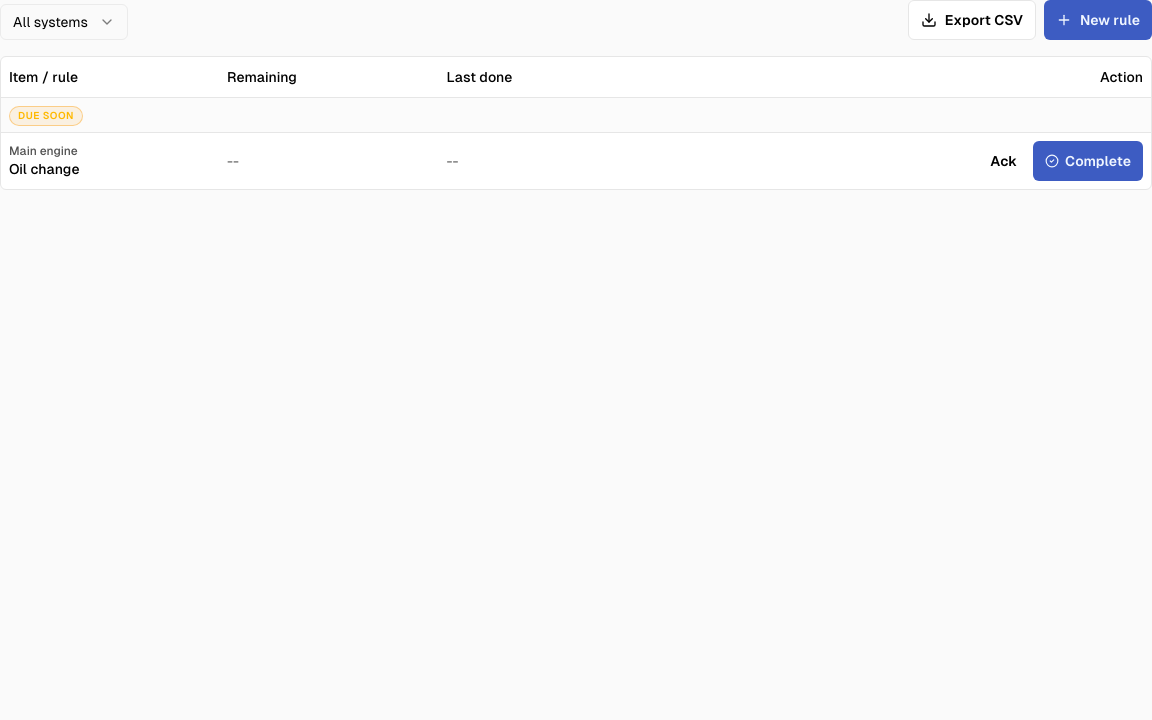
it: MaintenanceSection › completes a rule with the prefilled current hours and writes the log entry
Expected: the button "Oil change" is shown, [9,158,80,178]
Click the button "Complete": (1088, 160) [1033,140,1143,180]
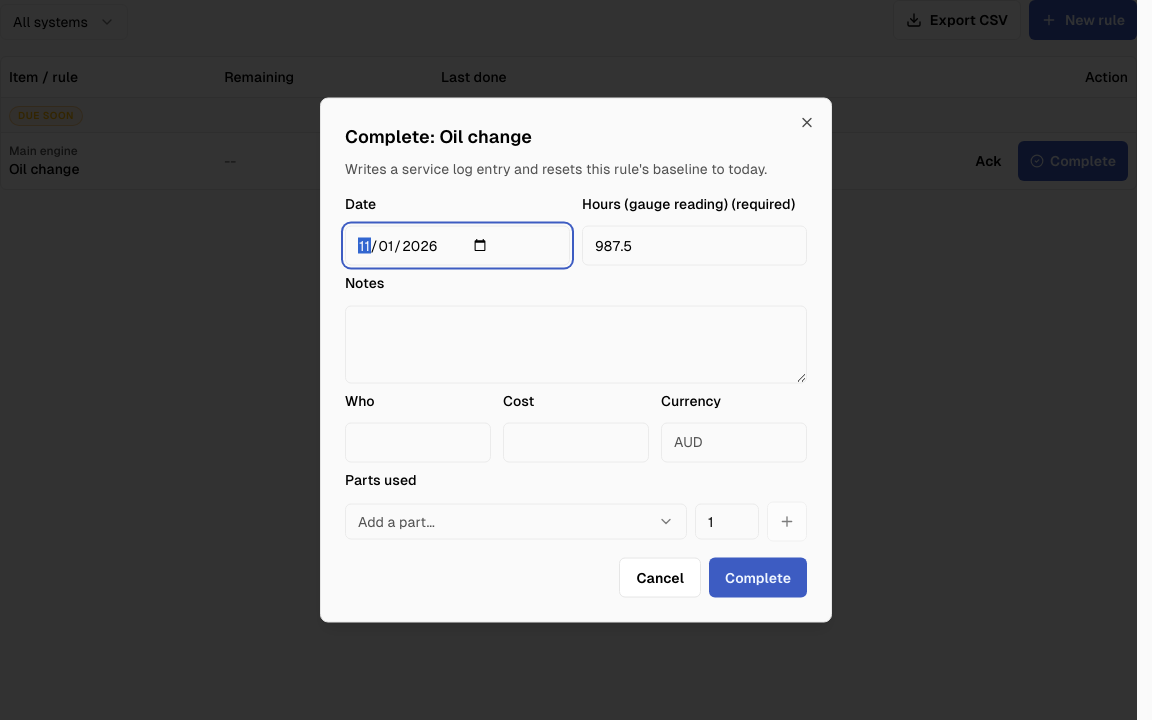
Expected: the number field labelled "Hours (gauge reading) (required)" holds "987.5", [582,226,807,266]
Click the button "Complete": (758, 578) [709,558,807,598]
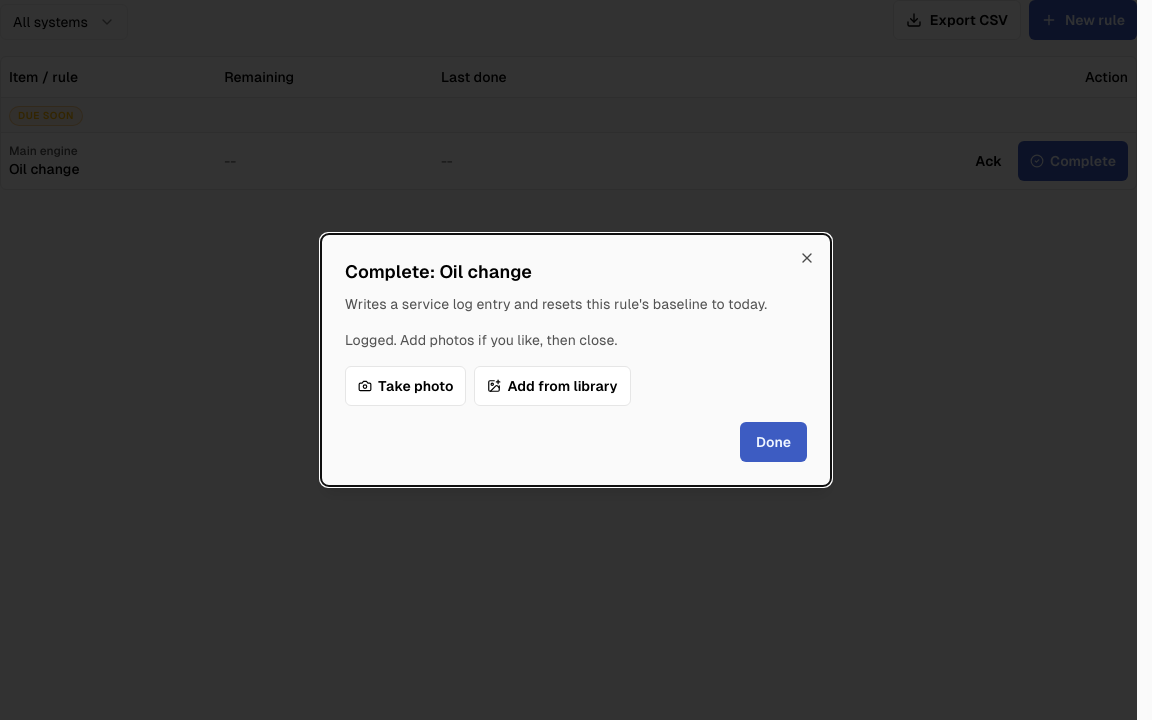
Expected: the text "Logged. Add photos if you like, then close." is shown, [345,332,617,348]
